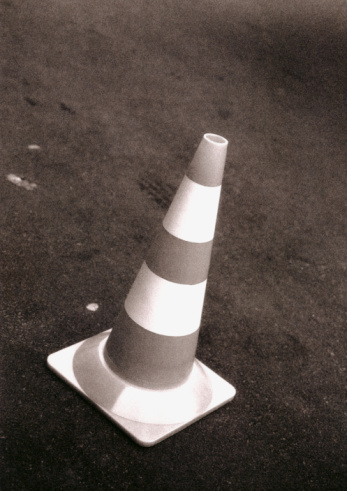trafficcone: (45, 132, 236, 448)
